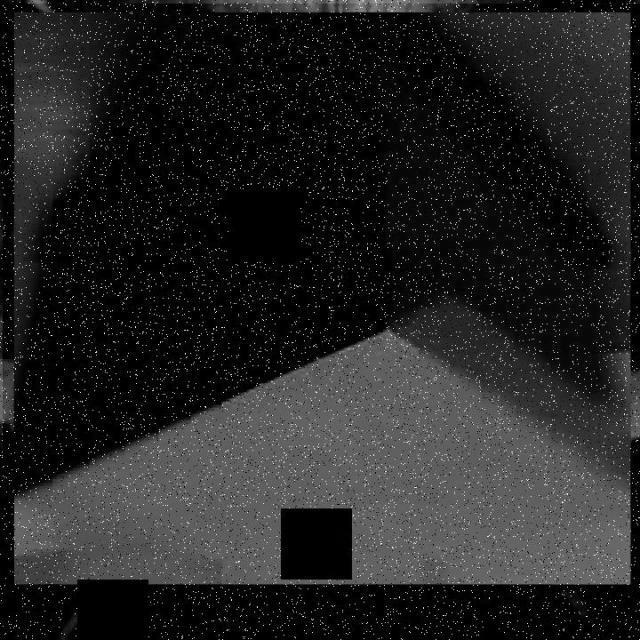box: (3, 4, 640, 593)
